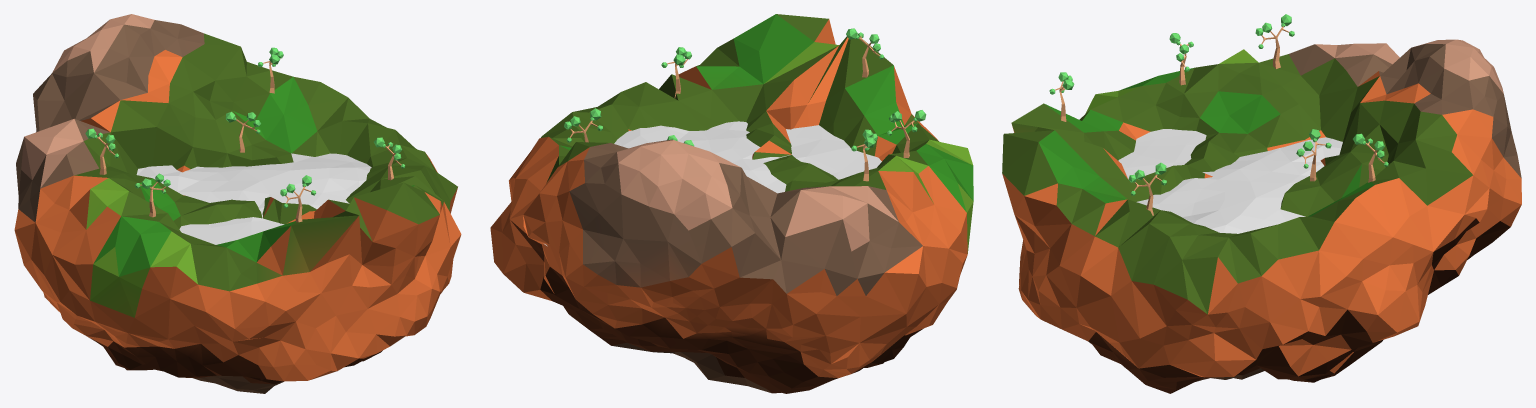
File: center islandtest.fbx
3 views of the same model, side by side, from view 1: azimuth 30°, elevation 25°; view 2: azimuth 150°, elevation 25°; view 3: azimuth 270°, elevation 25° (orthographic). The views are drawn at different scales.
Parts seen in each view (by area): view 1: Land, Water; view 2: Land, Water; view 3: Land, Water.
Part boxes in pixels (x1,y1,x2,y2): Land: (14,14,461,393); Water: (136,153,371,244); Land: (490,14,973,393); Water: (544,121,881,246); Land: (1002,39,1521,393); Water: (1118,129,1342,233).
Bounding box in the file's own units: 1786 × 1296 × 1921.
